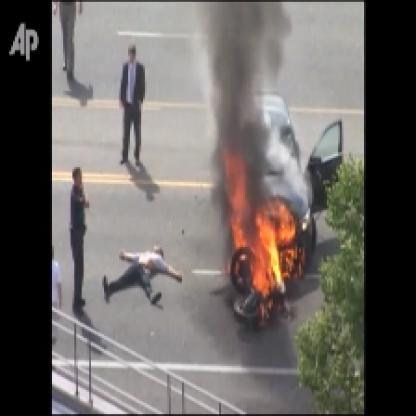Fire: (217, 145, 301, 304)
Smoke: (202, 2, 280, 212)
